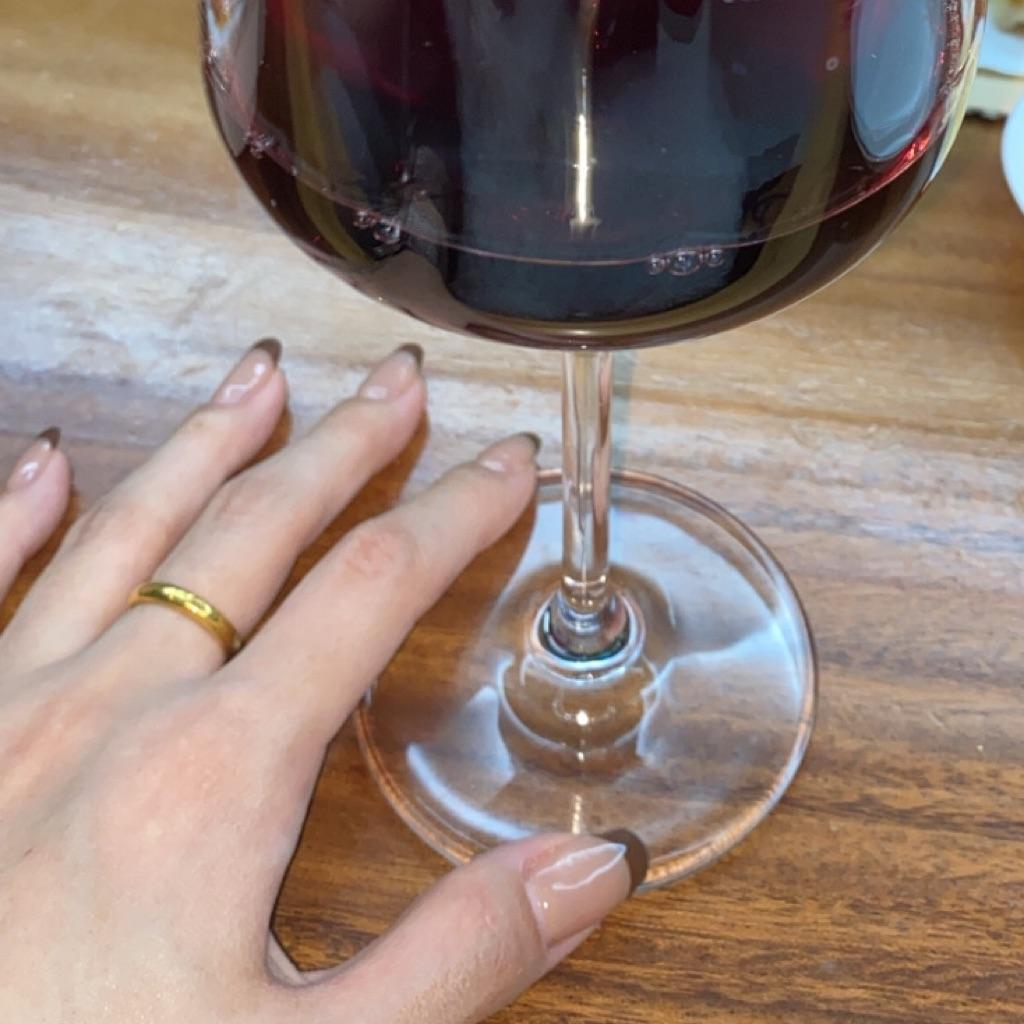nail: (209, 335, 280, 406), (356, 343, 422, 402), (6, 424, 60, 491)
